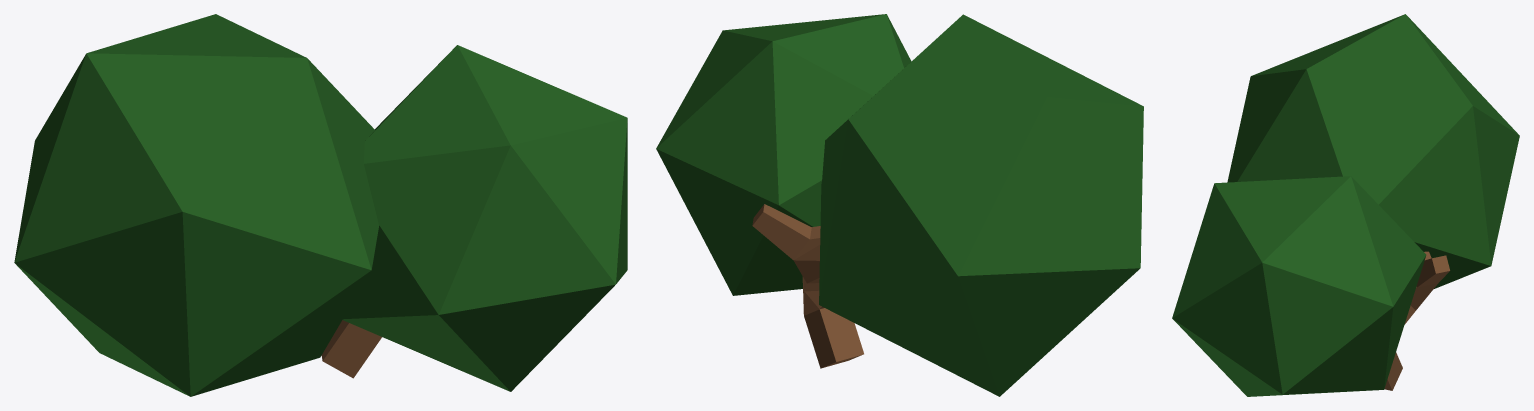
File: Mesa_Bush_Small.fbx
The picture shows the model from 3 angles, left to right: view 1: azimuth 30°, elevation 25°; view 2: azimuth 150°, elevation 25°; view 3: azimuth 270°, elevation 25°; orthographic projection. The views are drawn at different scales.
Parts seen in each view (by area): view 1: Icosphere.022, Icosphere.018, Cube.004; view 2: Icosphere.022, Icosphere.018, Cube.004; view 3: Icosphere.022, Icosphere.018, Cube.004.
Boxes of the visible parts, x1,y1,x2,y2 form: Icosphere.022: (14,14,379,396); Icosphere.018: (342,45,627,391); Cube.004: (321,320,381,378); Icosphere.022: (819,14,1143,396); Icosphere.018: (656,14,911,295); Cube.004: (752,204,863,368); Icosphere.022: (1227,14,1519,288); Icosphere.018: (1172,176,1426,396); Cube.004: (1384,251,1450,390).
Bounding box in the file's own units: 210 × 135 × 150.
